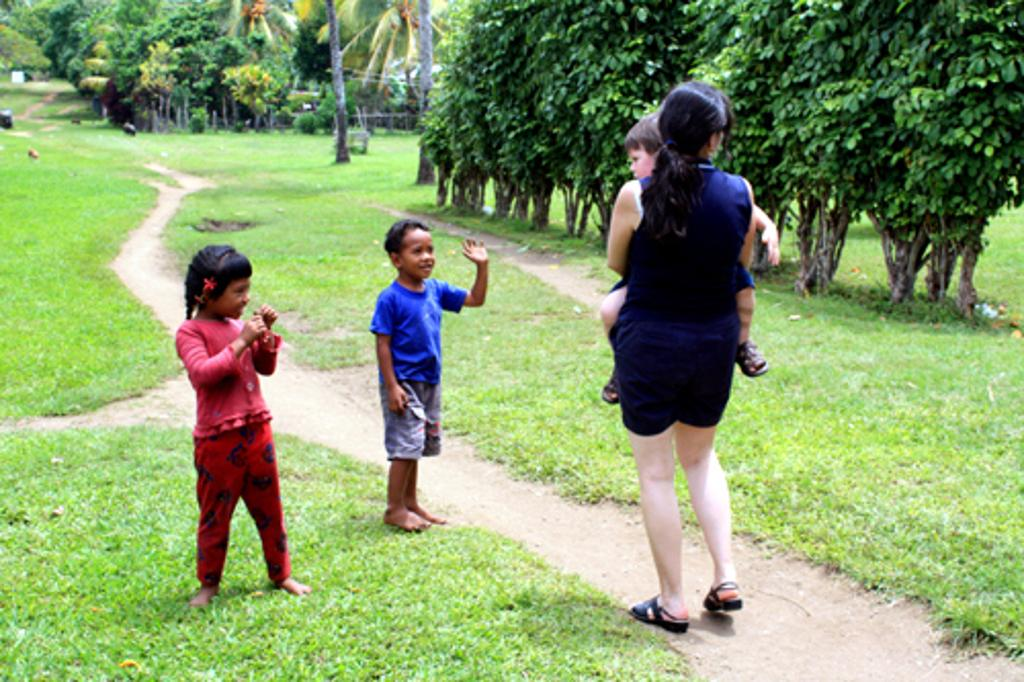face: (401, 234, 436, 278), (217, 279, 251, 319), (628, 149, 664, 186)
